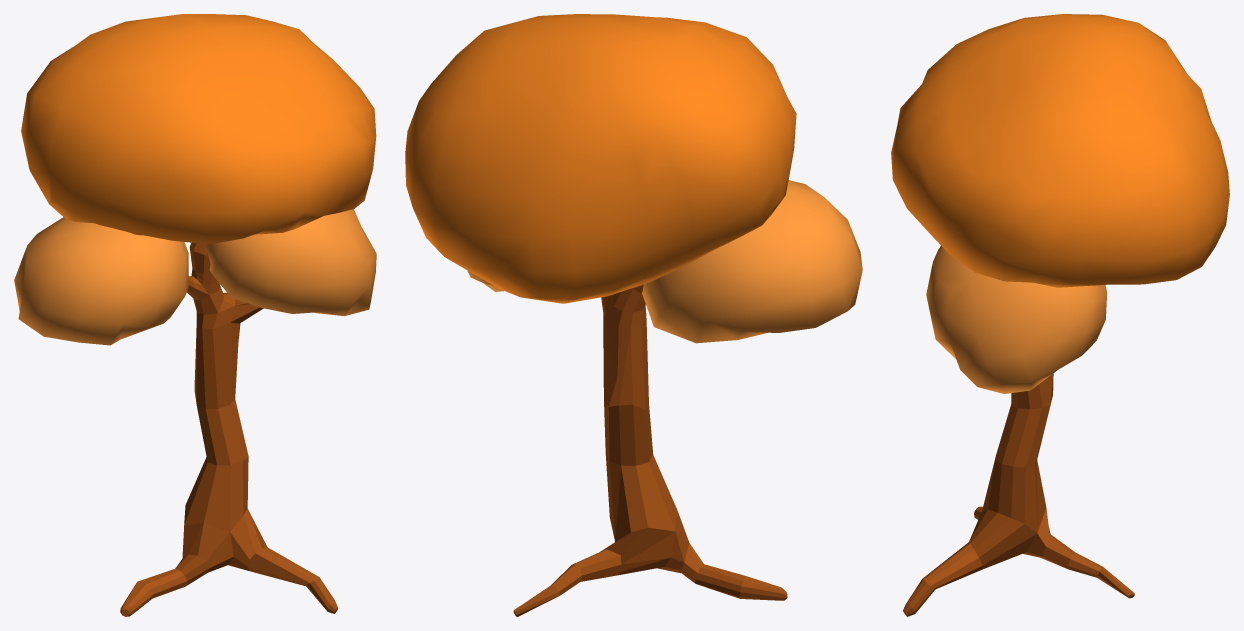
File: Tree_14_Fall.fbx
The picture shows the model from 3 angles, left to right: view 1: azimuth 30°, elevation 25°; view 2: azimuth 150°, elevation 25°; view 3: azimuth 270°, elevation 25°; orthographic projection. The views are drawn at different scales.
Visible parts, largest first — view 1: Tree_14_p2_Fall, Tree_14_p1_Fall; view 2: Tree_14_p2_Fall, Tree_14_p1_Fall; view 3: Tree_14_p2_Fall, Tree_14_p1_Fall.
Boxes of the visible parts, x1,y1,x2,y2 form: Tree_14_p2_Fall: (14,14,376,345); Tree_14_p1_Fall: (120,242,337,616); Tree_14_p2_Fall: (405,14,862,343); Tree_14_p1_Fall: (513,284,787,616); Tree_14_p2_Fall: (891,14,1229,393); Tree_14_p1_Fall: (903,373,1134,616).
Bounding box in the file's own units: 435 × 626 × 353.
